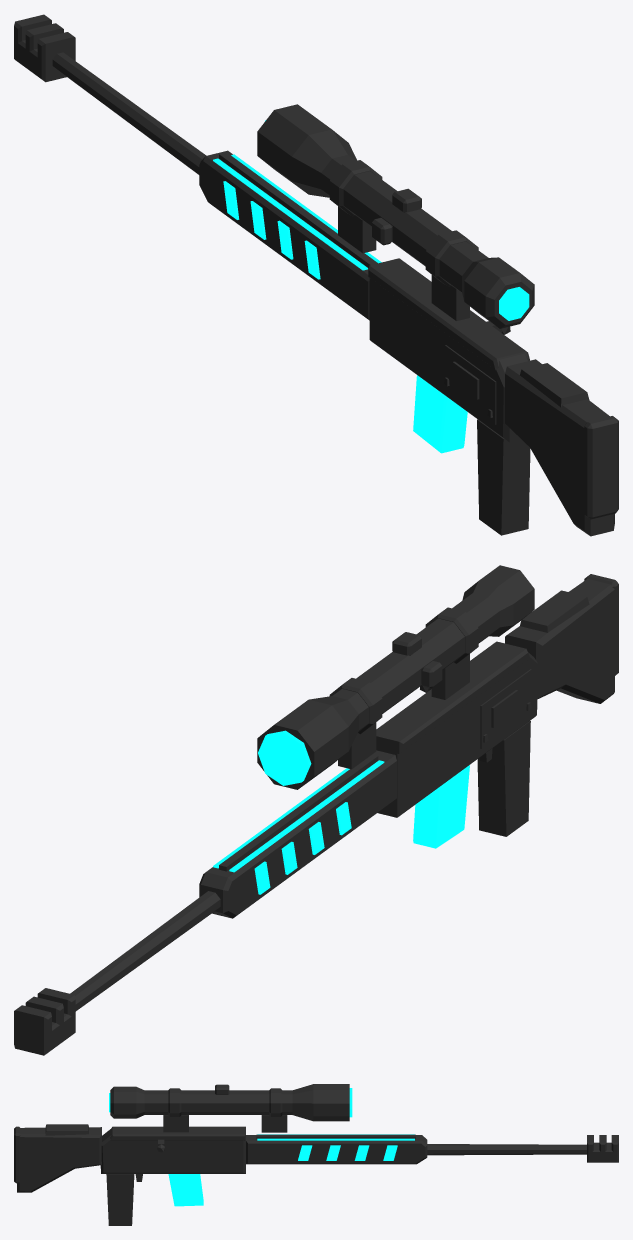
The model's file is sniper_rifle.glb.
3 views of the same model, one above another, from view 1: azimuth 30°, elevation 25°; view 2: azimuth 150°, elevation 25°; view 3: azimuth 270°, elevation 25° (orthographic). The views are drawn at different scales.
Parts seen in each view (by area): view 1: frame, grip, trim, heat_vents, heat_cell; view 2: frame, trim, grip, heat_vents, heat_cell, scope_lens; view 3: frame, grip, trim, heat_vents, heat_cell.
Boxes of the visible parts, x1,y1,x2,y2 form: frame: (14,14,534,442); grip: (477,359,618,536); trim: (219,152,589,424); heat_vents: (213,154,529,320); heat_cell: (413,375,467,453); frame: (14,565,537,1055); trim: (219,590,589,871); grip: (477,574,618,836); heat_vents: (213,760,384,894); heat_cell: (413,765,469,848); scope_lens: (258,730,311,785); frame: (100,1084,618,1173); grip: (14,1126,134,1225); trim: (45,1084,415,1181); heat_vents: (109,1093,414,1160); heat_cell: (168,1174,203,1206).
Size of the model in its own units: 0.088 by 0.29 by 1.17.
